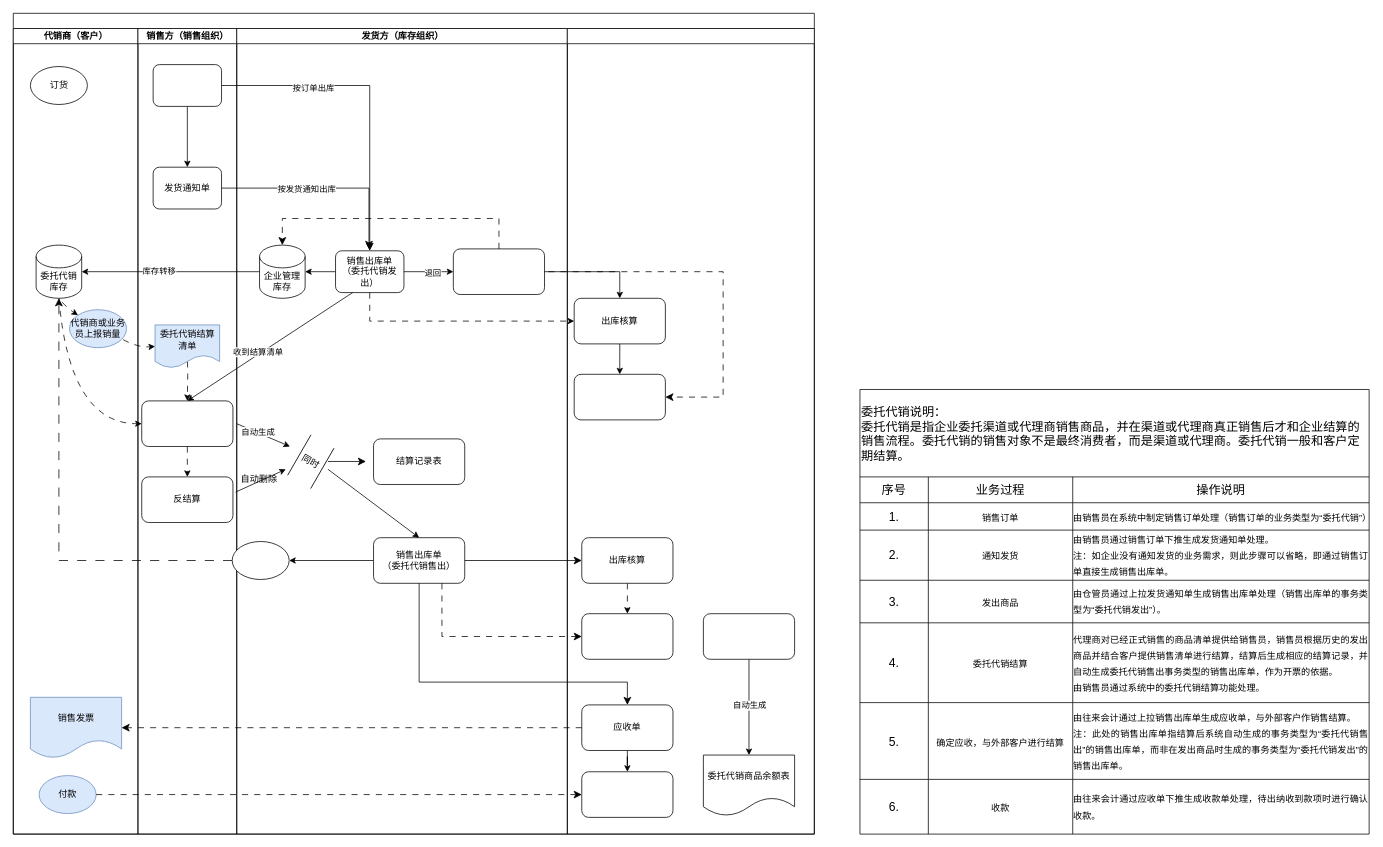
This 1383x847 diagram has some shape labels left out. The box of each missing label's shape, as (x1, y1, x2, y2) in pixels:
发出商品凭证两，主营业务成本，委托代销商品: (581, 613, 673, 659)
发出商品，委托代销商品，库存商品: (573, 374, 665, 420)
委托代销业务流程图: (13, 13, 814, 834)
扣减代销库存: (231, 541, 289, 580)
收款单: (581, 771, 673, 817)
收款方（财务组织）: (567, 28, 814, 834)
期末结账: (703, 613, 795, 659)
结算: (141, 400, 233, 446)
销售出库单 （委托代销退回）: (453, 248, 545, 294)
销售订单 （委托代销）: (152, 64, 222, 106)
